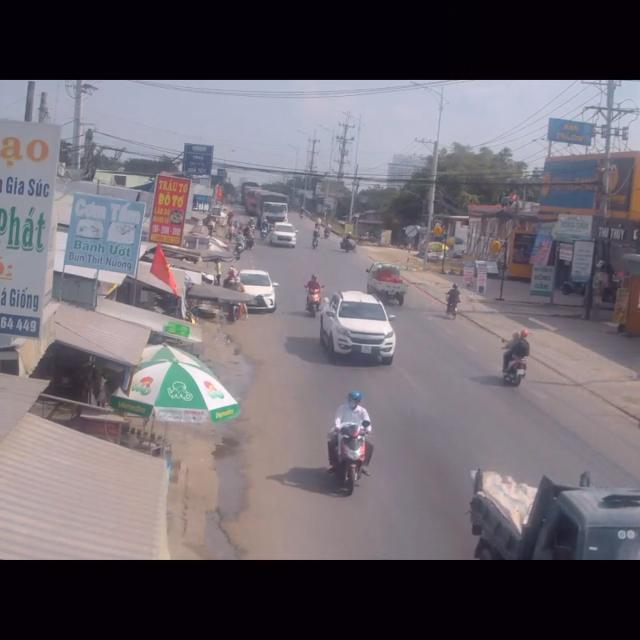car: (320, 290, 397, 370)
motorbike: (323, 392, 375, 499), (501, 329, 529, 392), (306, 270, 325, 318)
truck: (466, 470, 640, 560), (366, 264, 406, 302)
